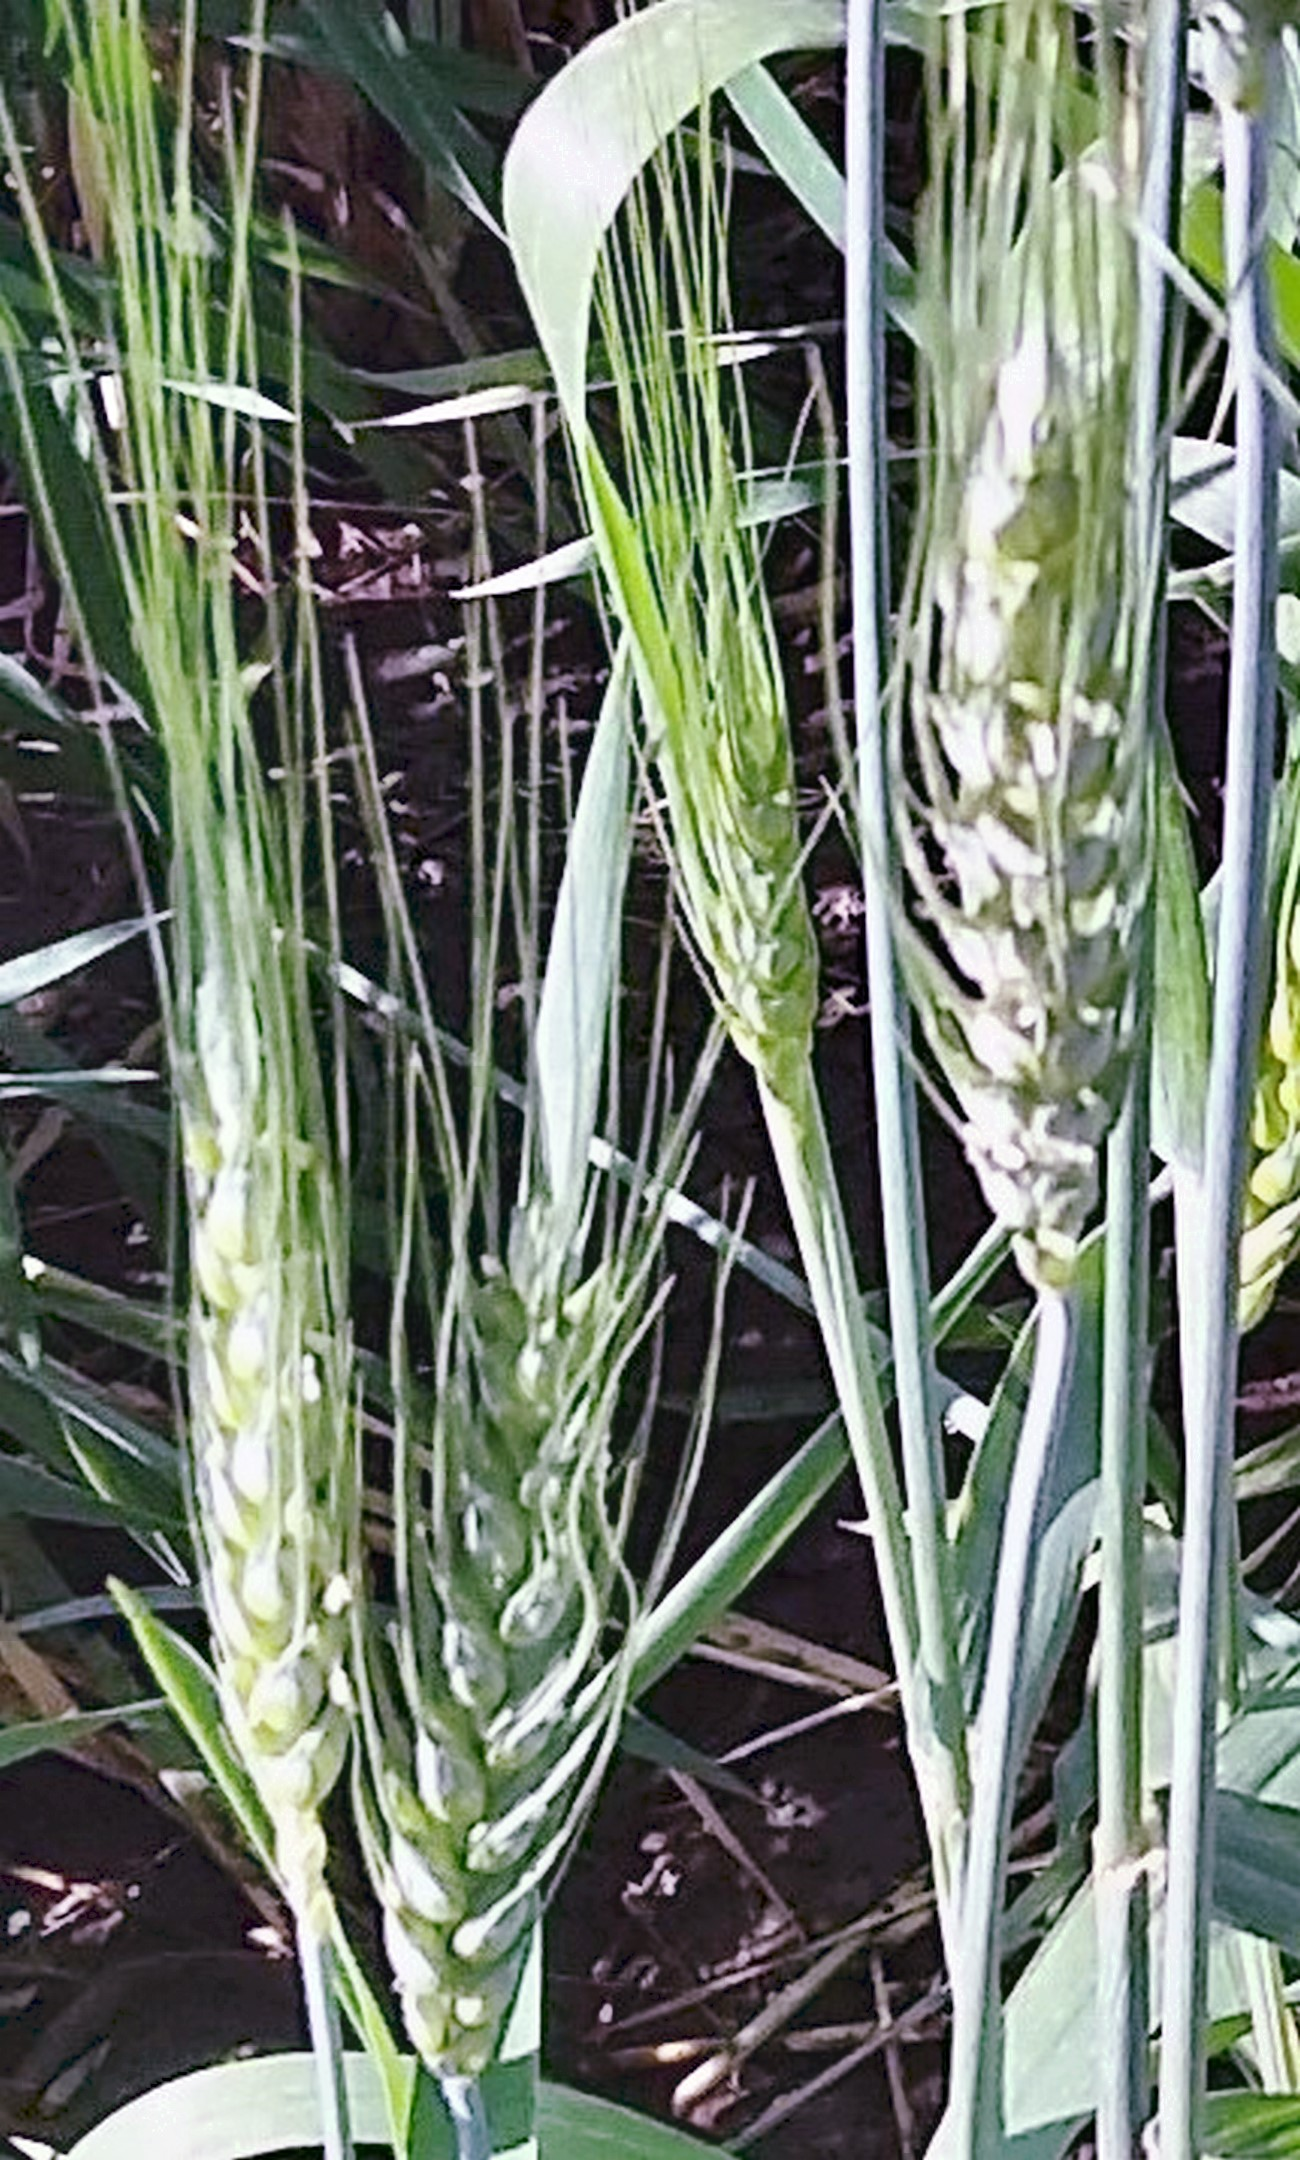Healthy Wheat: (369, 1230, 662, 2080)
